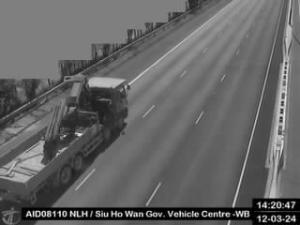truck: (1, 74, 132, 198)
